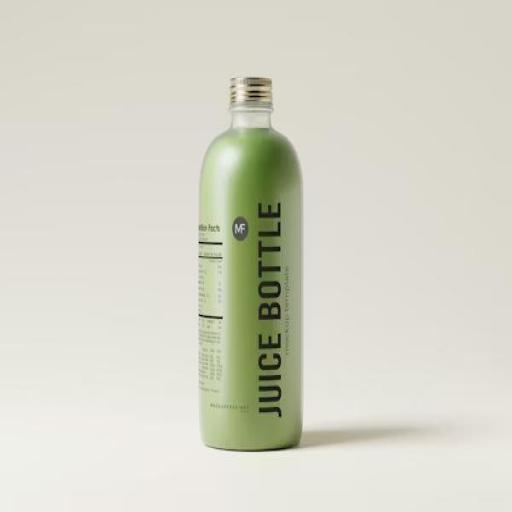bottle: (189, 66, 313, 462)
